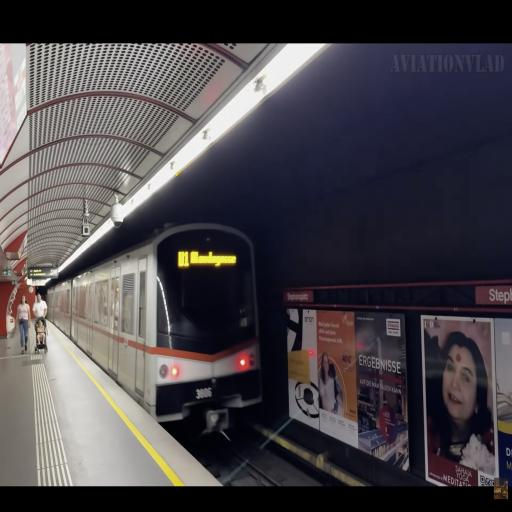V-Wagen: (46, 220, 254, 422)
